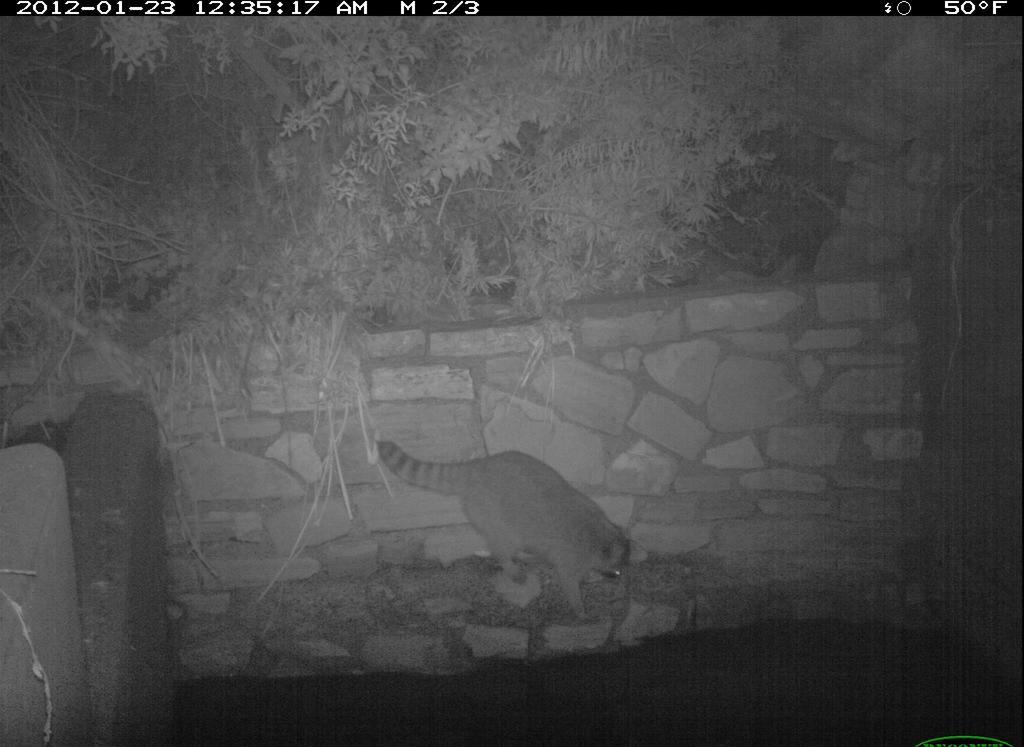raccoon: (359, 423, 662, 631)
